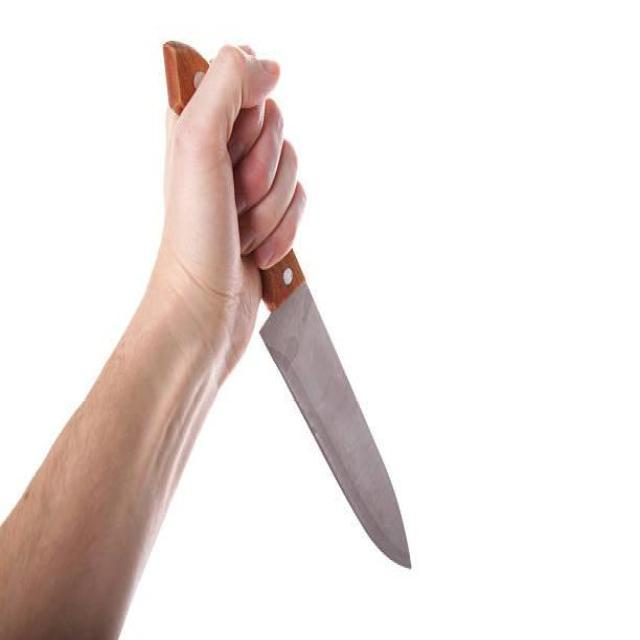faca: (139, 5, 427, 593)
